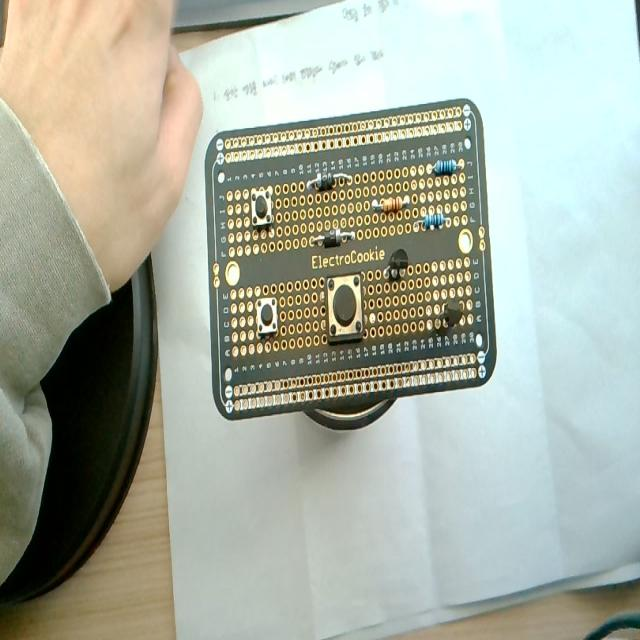diode: (306, 172, 348, 193)
switch: (324, 272, 365, 344), (256, 297, 278, 337), (251, 187, 273, 227)
transistor: (428, 298, 464, 332), (381, 247, 409, 283)
